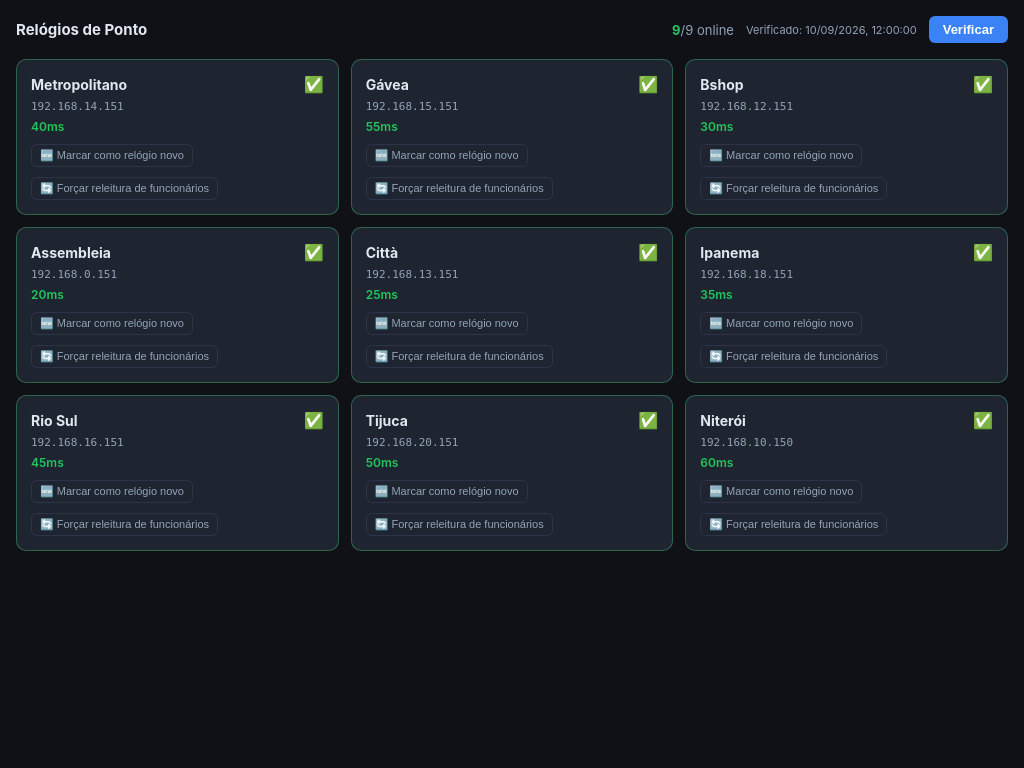
Test case: ClockStatusGrid — botão "Marcar como relógio novo" › troca o botão por um badge "aguardando releitura" após marcar com sucesso
Click the button "🆕 Marcar como relógio novo" below "40" at (112, 156), box [31,144,193,167]
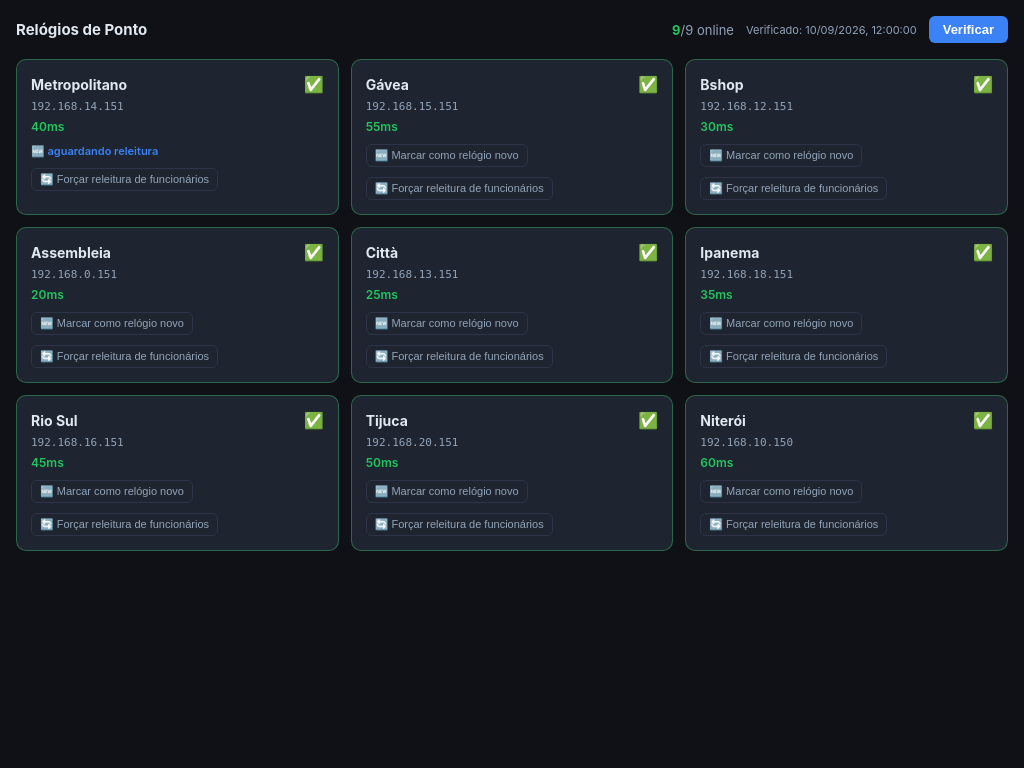
expect the text "🆕 aguardando releitura" is shown: met, box [31,144,158,158]
expect the number of buttons "🆕 Marcar como relógio novo" is 8: met
